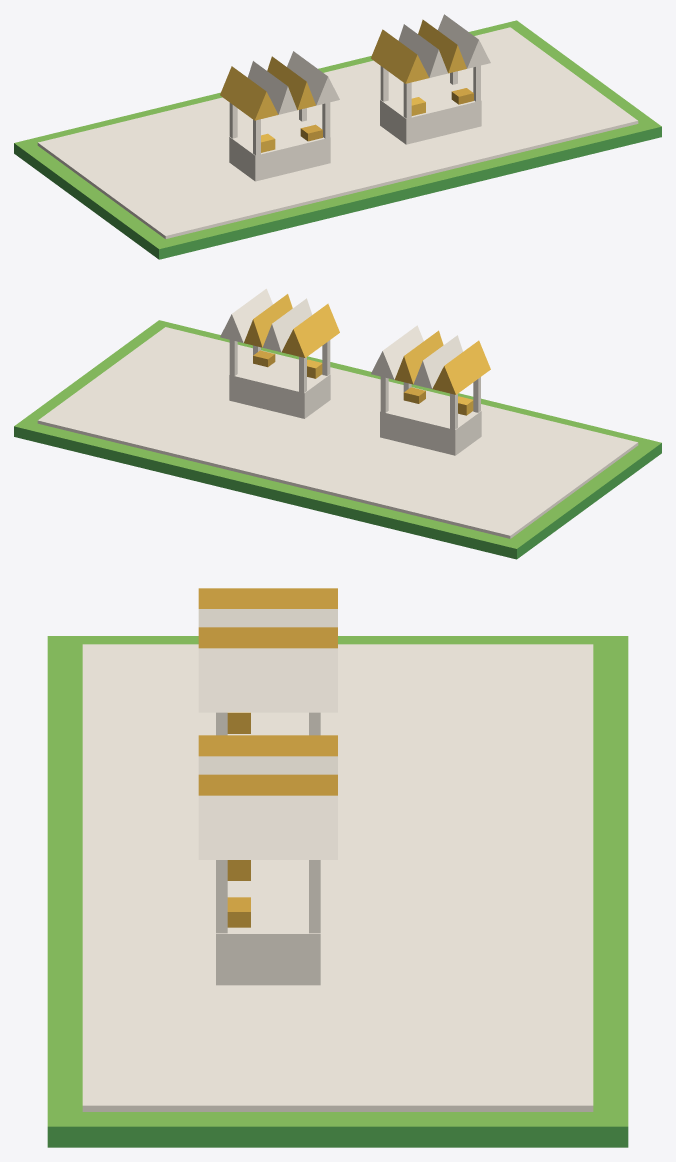
Rendered from skill_decimal_market_t1.glb.
The picture shows the model from 3 angles, top to bottom: view 1: azimuth 30°, elevation 25°; view 2: azimuth 150°, elevation 25°; view 3: azimuth 270°, elevation 25°; orthographic projection. The views are drawn at different scales.
Visible parts, largest first — view 1: plaza, base, stall_1, stall_2; view 2: plaza, base, stall_2, stall_1; view 3: plaza, base, stall_2, stall_1.
Boxes of the visible parts, x1,y1,x2,y2 form: plaza: (37, 27, 638, 238); base: (14, 20, 661, 259); stall_1: (220, 51, 339, 181); stall_2: (370, 14, 490, 144); plaza: (37, 327, 638, 538); base: (14, 320, 661, 559); stall_2: (220, 288, 339, 418); stall_1: (371, 325, 490, 455); plaza: (82, 644, 593, 1111); base: (47, 636, 628, 1147); stall_2: (198, 735, 337, 985); stall_1: (198, 588, 337, 735).
Bounding box in the file's own units: 2 × 0.4 × 1.
